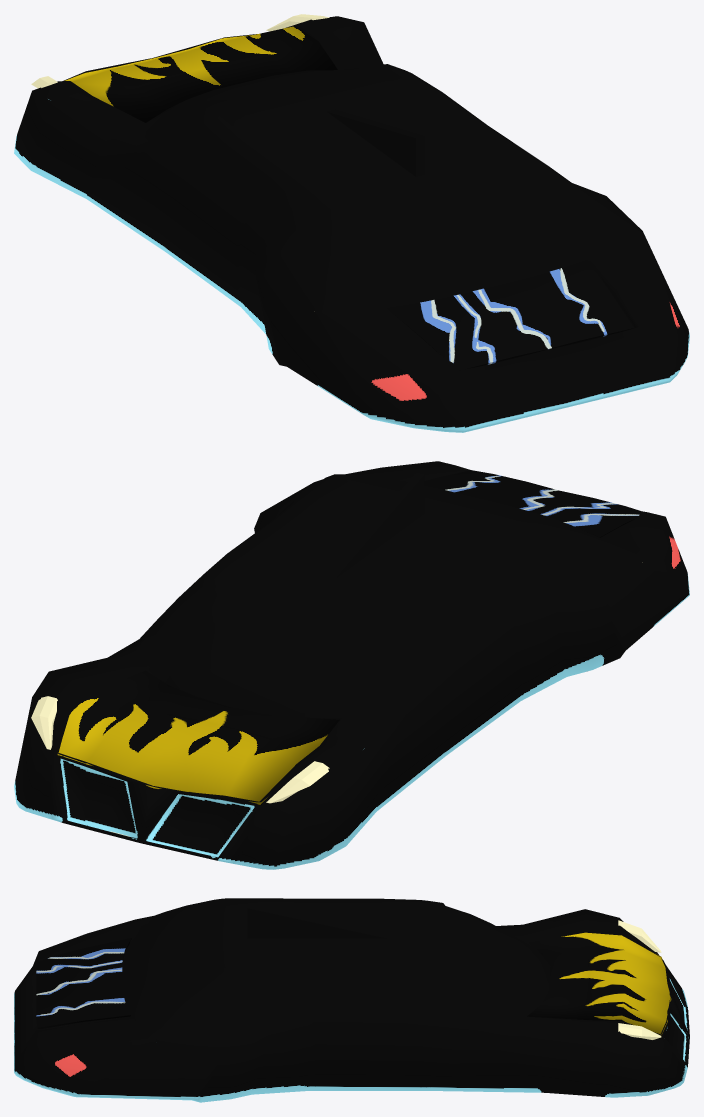
The model's file is VoitureVinnie2.glb.
The picture shows the model from 3 angles, top to bottom: view 1: azimuth 30°, elevation 25°; view 2: azimuth 150°, elevation 25°; view 3: azimuth 270°, elevation 25°; orthographic projection. The views are drawn at different scales.
Parts seen in each view (by area): view 1: Cube.004, Cube.006, Cube.007; view 2: Cube.004, Cube.007, Cube.006; view 3: Cube.004, Cube.007, Cube.006.
Part boxes in pixels (left/top/right/bottom): Cube.004: left=14, top=14, right=689, bottom=432; Cube.006: left=386, top=259, right=634, bottom=370; Cube.007: left=64, top=26, right=337, bottom=122; Cube.004: left=14, top=461, right=689, bottom=869; Cube.007: left=57, top=670, right=339, bottom=805; Cube.006: left=424, top=470, right=641, bottom=537; Cube.004: left=14, top=898, right=689, bottom=1102; Cube.007: left=527, top=932, right=671, bottom=1035; Cube.006: left=36, top=937, right=131, bottom=1029.
Bounding box in the file's own units: 2.19 × 0.9947 × 4.68.
Materials: 3 (3 with a texture image).
